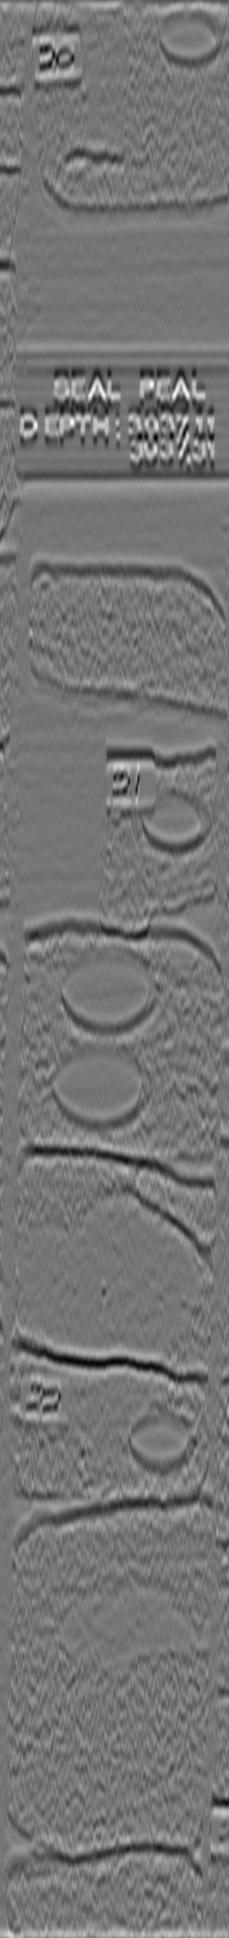hplug: (125, 1400, 205, 1476), (135, 784, 215, 858), (153, 2, 229, 72)
scal: (41, 1039, 158, 1140), (59, 938, 165, 1038)
vplug: (54, 2, 135, 168)
